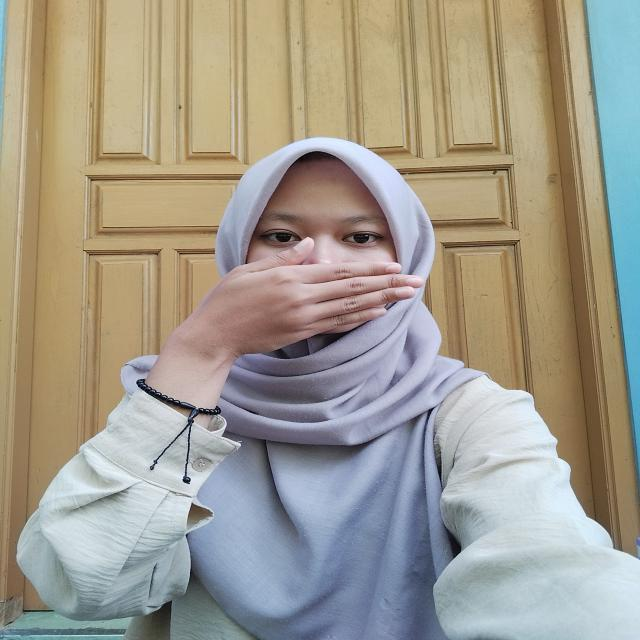buruk: (151, 242, 423, 377)
